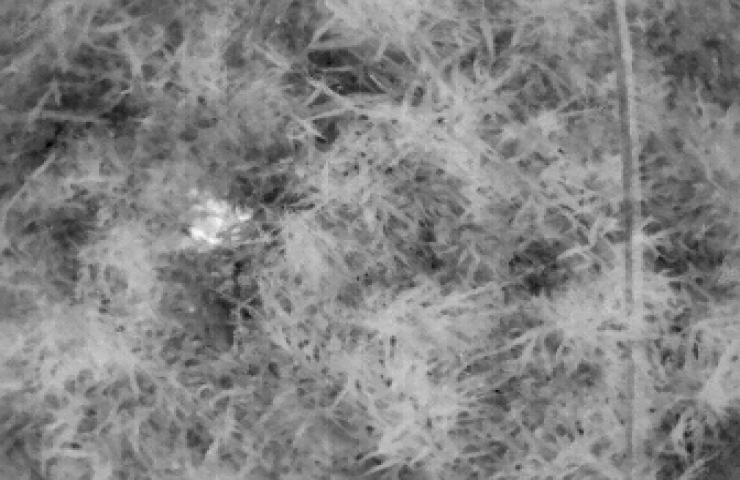landmines: (176, 190, 263, 257)
